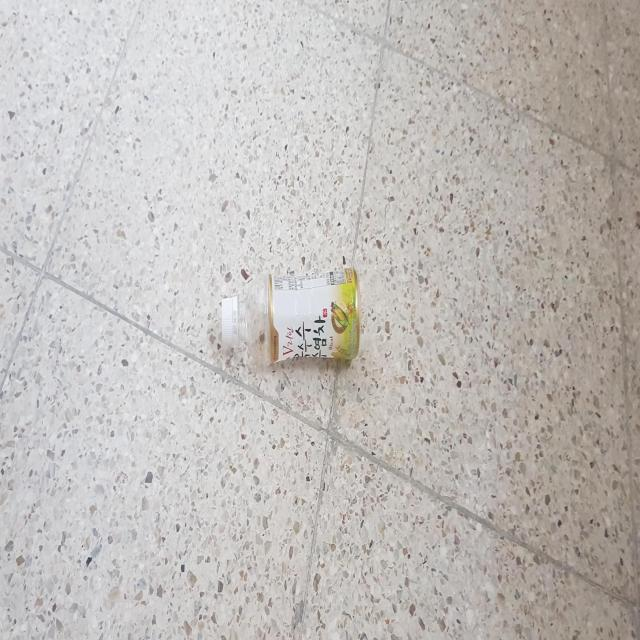plastic: (221, 266, 361, 365)
